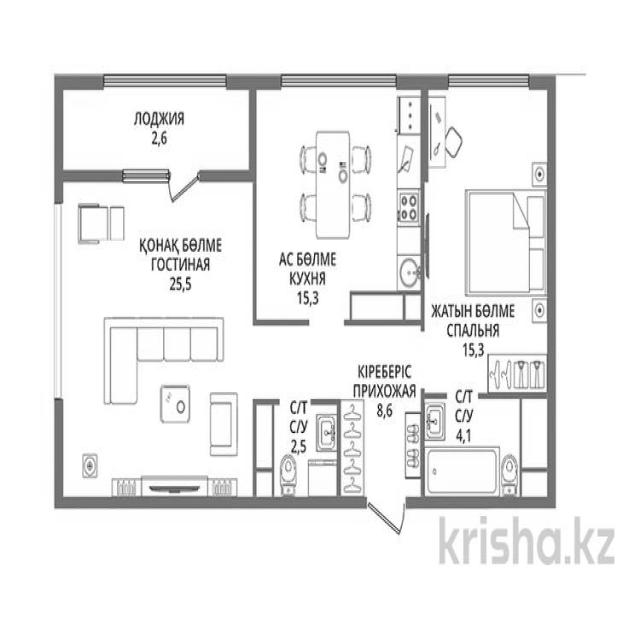balcony: (58, 79, 255, 175)
bathroom: (424, 391, 526, 505), (256, 402, 338, 499)
hallway: (340, 323, 424, 500)
kitchen: (254, 85, 426, 317)
living_room: (59, 175, 254, 503), (424, 82, 554, 401)
